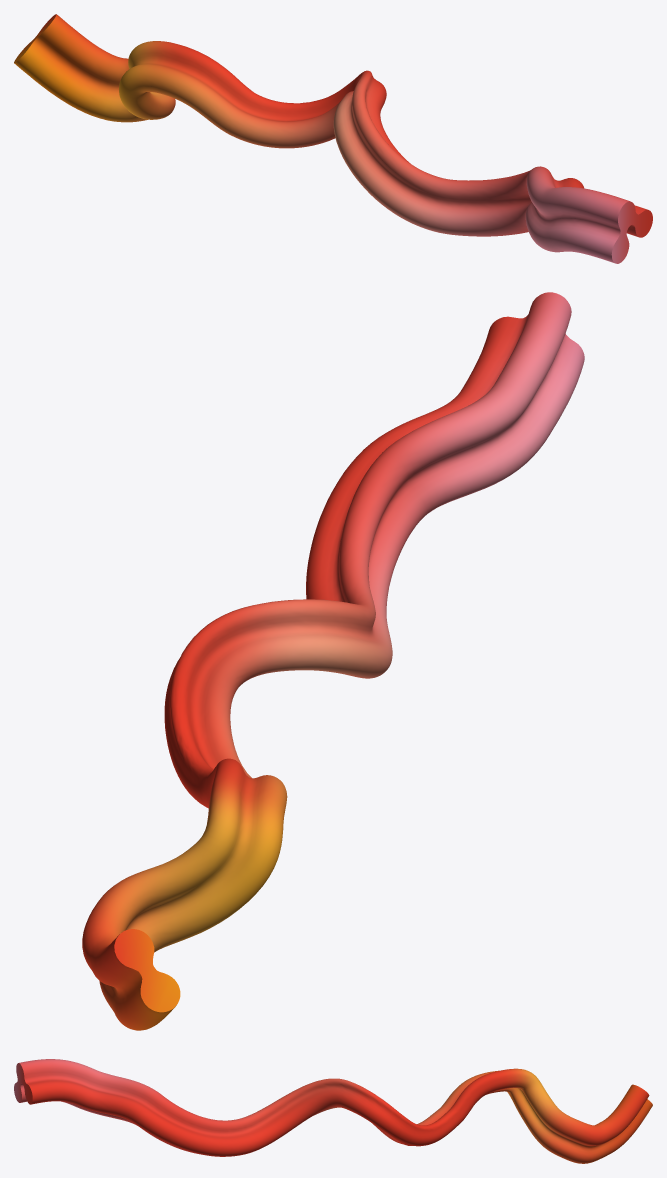
The model's file is color-shape_c_min.glb.
The picture shows the model from 3 angles, top to bottom: view 1: azimuth 30°, elevation 25°; view 2: azimuth 150°, elevation 25°; view 3: azimuth 270°, elevation 25°; orthographic projection. The views are drawn at different scales.
Parts seen in each view (by area): view 1: worm1; view 2: worm1; view 3: worm1.
Part boxes in pixels (<box>): worm1: <box>14,14,652,263</box>; worm1: <box>82,292,584,1030</box>; worm1: <box>14,1059,652,1163</box>.
Size of the model in its own units: 13.88 by 11.14 by 48.37.
1 material, 1 textured.
